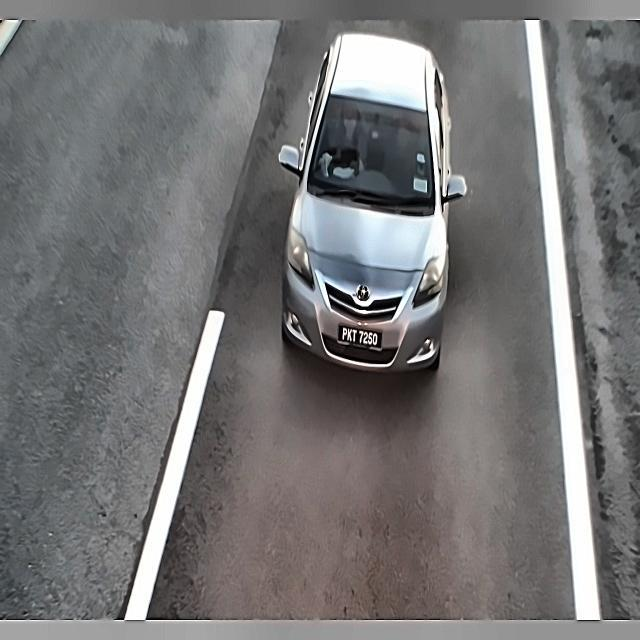car: (334, 314, 387, 357)
